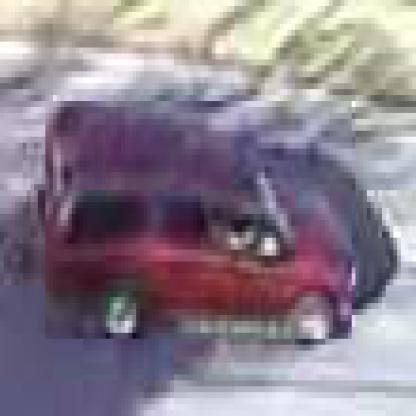car: (43, 102, 353, 346)
